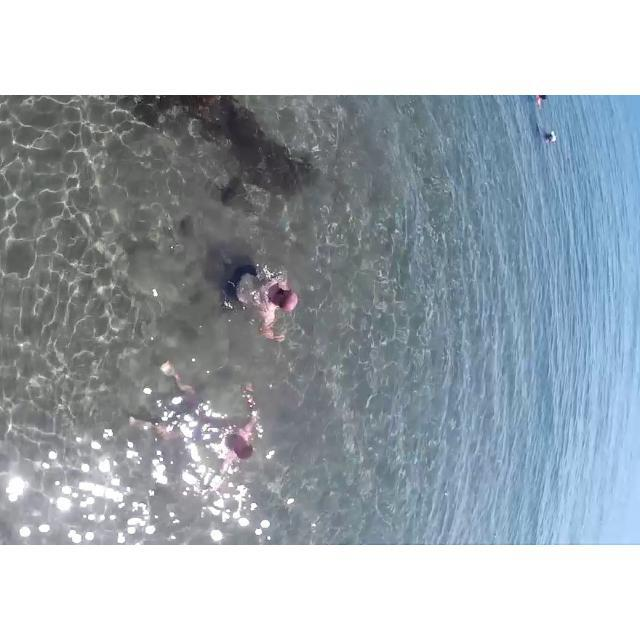human: (154, 364, 266, 502), (220, 252, 303, 364), (528, 95, 551, 115), (545, 131, 560, 147)
